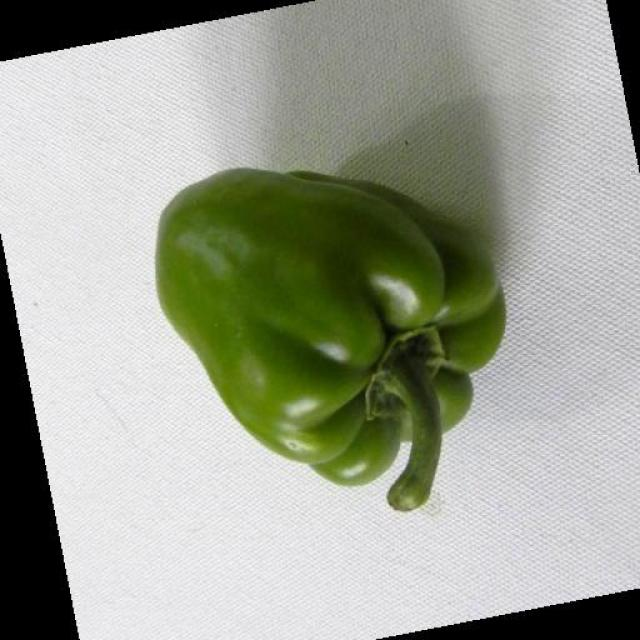Fresh_Capsicum: (151, 156, 487, 506)
